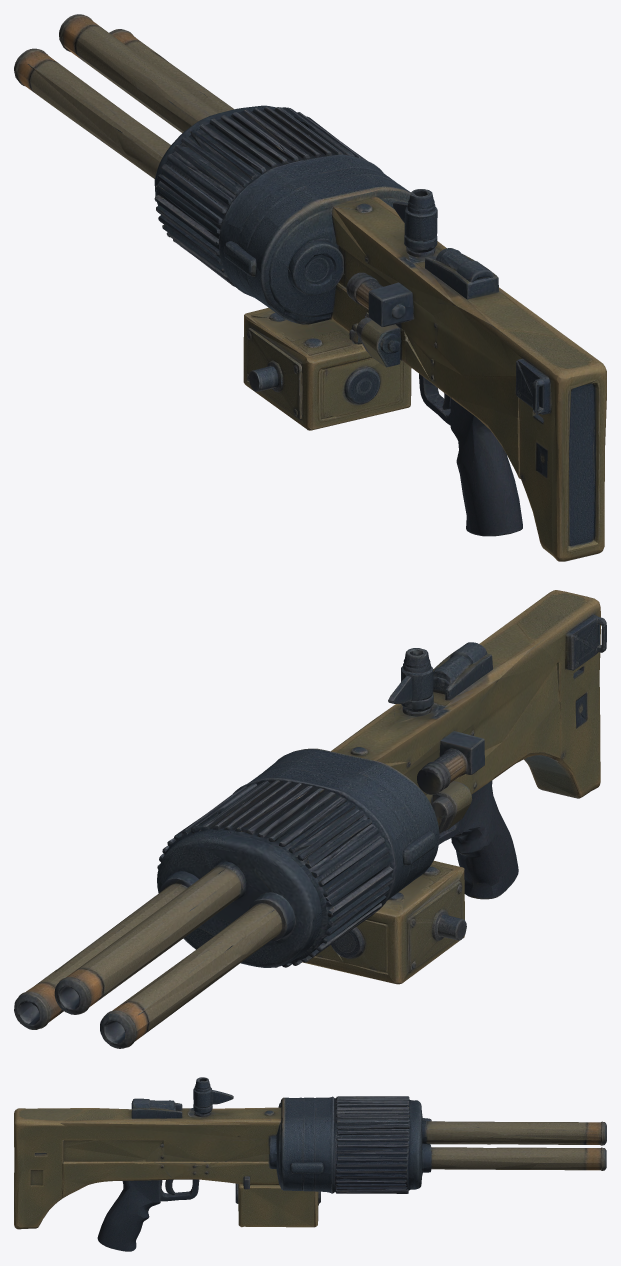
Rendered from tower_standard.glb.
3 renders of one model, top to bottom at view 1: azimuth 30°, elevation 25°; view 2: azimuth 150°, elevation 25°; view 3: azimuth 270°, elevation 25°, orthographic. The views are drawn at different scales.
Visible parts, largest first — view 1: tower_standard_0; view 2: tower_standard_0; view 3: tower_standard_0.
Part boxes in pixels (x1,y1,x2,y2): tower_standard_0: (14, 14, 606, 561); tower_standard_0: (14, 590, 606, 1048); tower_standard_0: (14, 1077, 606, 1251).
Bounding box in the file's own units: 0.4441 × 0.6246 × 2.
1 material, 1 textured.
